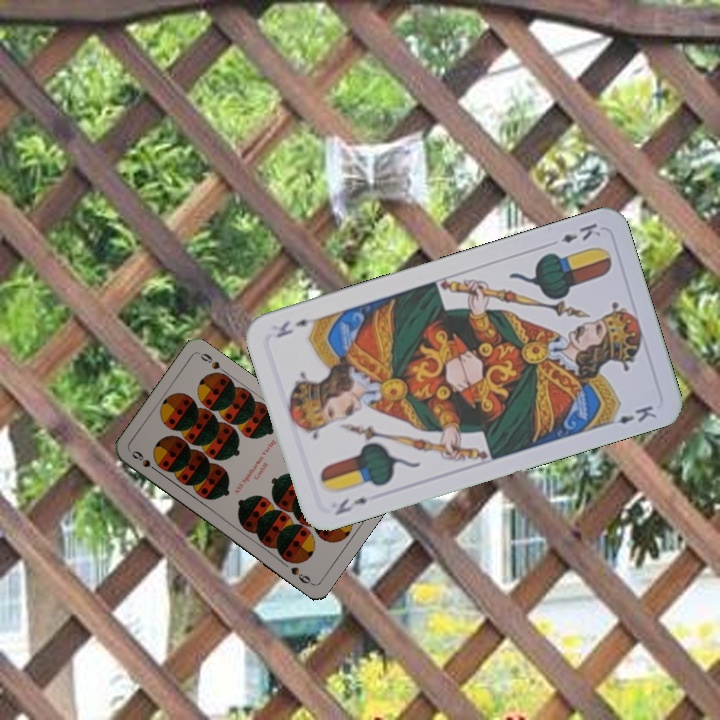EK: (557, 219, 604, 246), (331, 493, 370, 518)
S9: (128, 446, 163, 476)
